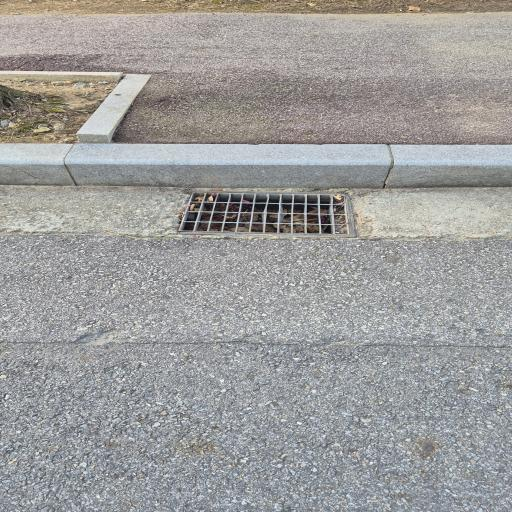debris: (294, 214, 304, 222), (293, 225, 304, 232), (308, 207, 319, 213), (308, 225, 319, 231), (252, 224, 263, 230), (281, 225, 290, 232), (268, 214, 278, 220), (227, 214, 237, 220), (334, 194, 341, 201), (238, 227, 249, 231), (208, 195, 213, 201), (190, 204, 194, 210), (321, 209, 327, 213), (283, 207, 287, 213), (231, 228, 236, 232), (242, 200, 249, 202), (273, 225, 277, 228)
drain: (176, 191, 357, 238)
